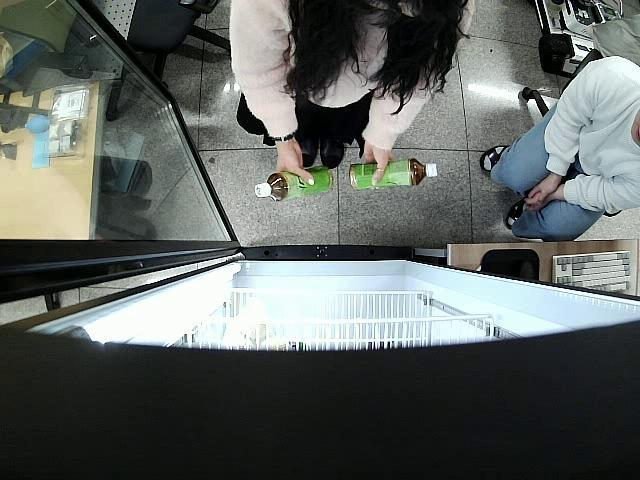19_17cha: (256, 166, 334, 201), (350, 158, 438, 188)
